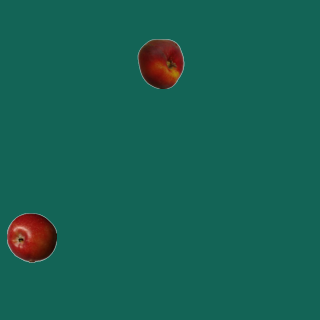Apple Braeburn: (6, 212, 56, 262)
Nectarine Flat: (135, 38, 185, 88)
